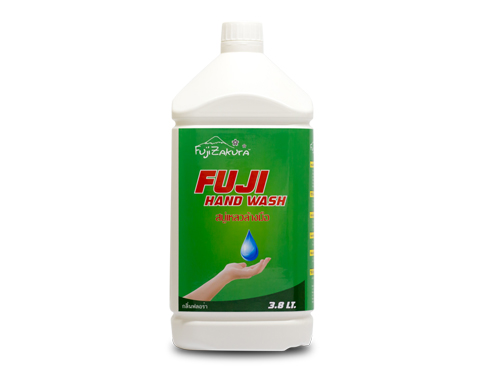Cleaning_solution: (166, 18, 321, 357)
